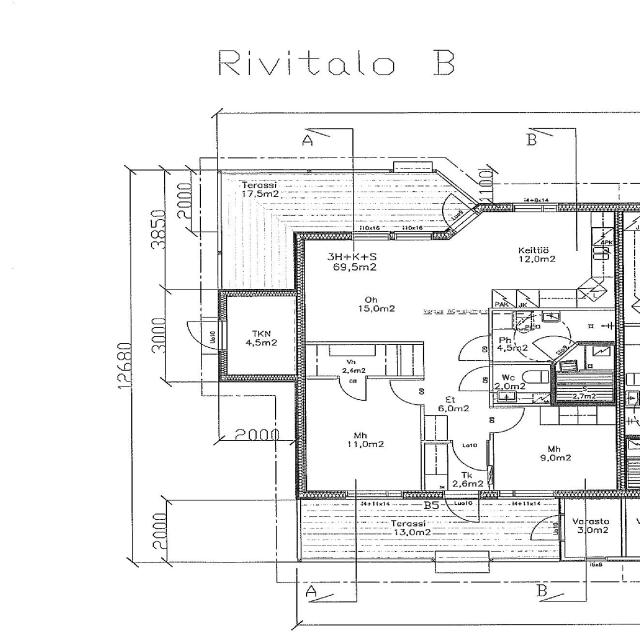door: (451, 437, 491, 473), (488, 404, 526, 435), (387, 376, 426, 406), (187, 319, 223, 350), (454, 333, 492, 362), (455, 364, 491, 393), (443, 493, 478, 522), (336, 378, 368, 402), (530, 514, 559, 535)
window: (357, 490, 405, 503), (512, 202, 558, 215), (510, 487, 554, 500), (394, 230, 434, 243), (352, 231, 390, 242)
zone: (301, 380, 424, 496), (490, 405, 620, 494), (220, 294, 298, 380), (560, 500, 628, 560), (240, 175, 347, 210), (302, 344, 403, 381), (491, 312, 552, 362), (489, 362, 553, 405), (299, 499, 356, 543), (551, 368, 617, 404), (555, 310, 617, 344), (194, 173, 221, 233), (303, 582, 356, 603), (623, 438, 640, 487), (622, 406, 640, 437)
